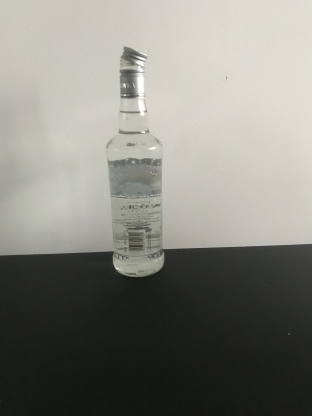nakretka: (117, 44, 148, 99)
